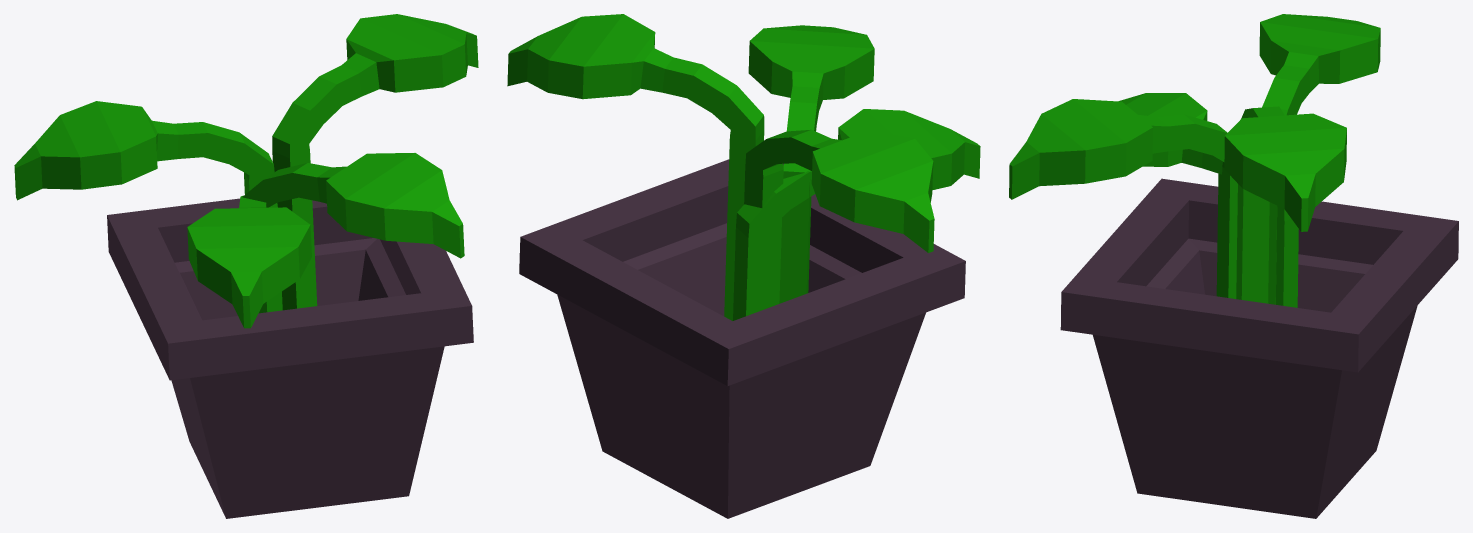
Rendered from macettita.fbx.
3 views of the same model, side by side, from view 1: azimuth 30°, elevation 25°; view 2: azimuth 150°, elevation 25°; view 3: azimuth 270°, elevation 25° (orthographic).
Parts seen in each view (by area): view 1: Cube.072, Cube.073; view 2: Cube.072, Cube.073; view 3: Cube.072, Cube.073.
Part boxes in pixels (x1,y1,x2,y2): Cube.072: (107, 198, 473, 518); Cube.073: (14, 14, 478, 328); Cube.072: (519, 159, 965, 518); Cube.073: (507, 14, 980, 320); Cube.072: (1060, 178, 1458, 518); Cube.073: (1009, 14, 1380, 307).
Size of the model in its own units: 54.77 by 47.34 by 47.96.
